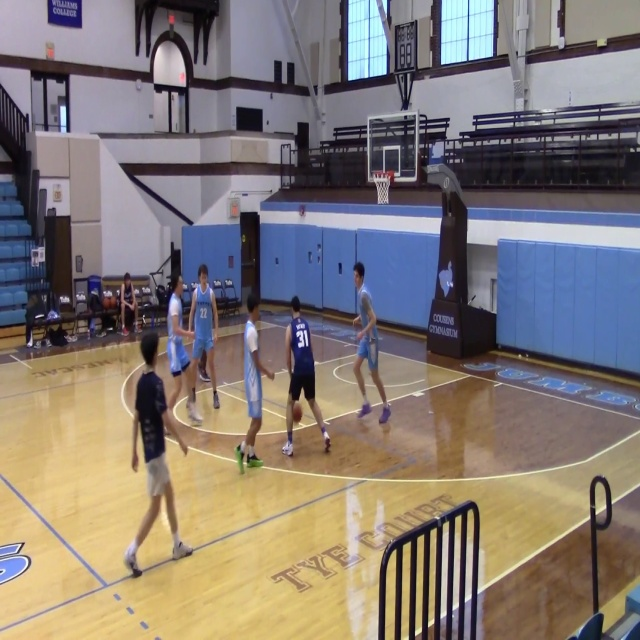Basketball: (292, 400, 303, 423), (102, 296, 117, 309)
